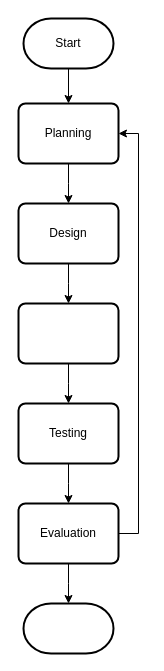
Image size: 164x671. Some labels were removed from this diagram. Each missing label, with the box of its shape:
Development: (17, 302, 119, 364)
Finish: (22, 602, 114, 654)
